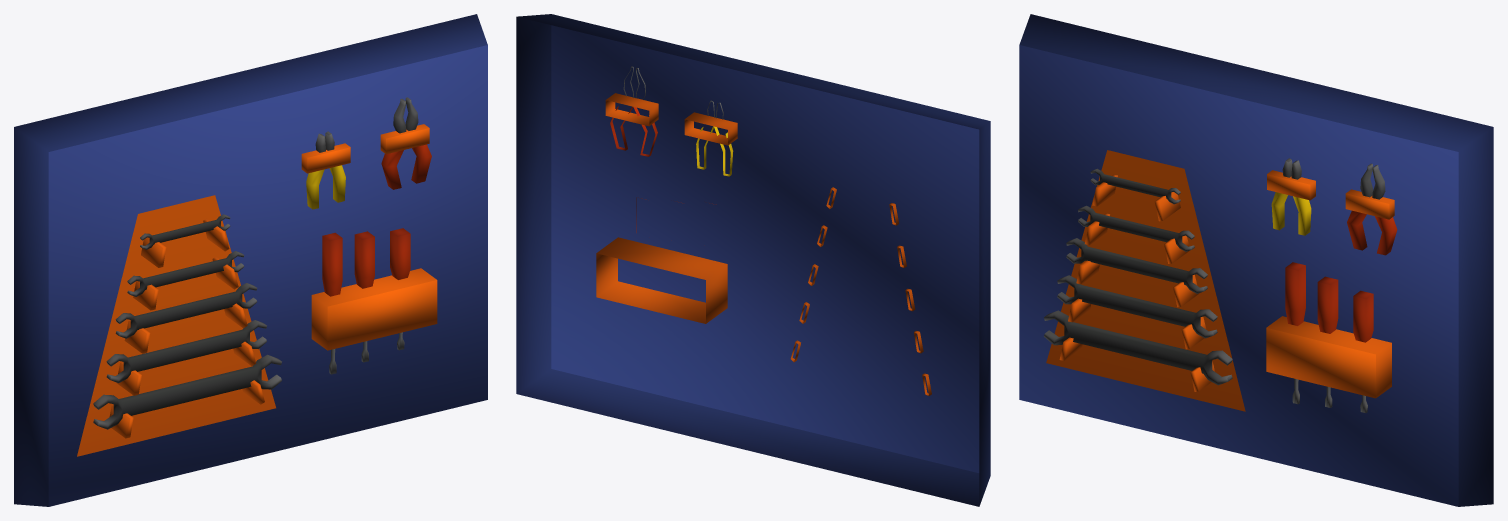
File: MuralFerramentas.fbx
3 views of the same model, side by side, from view 1: azimuth 30°, elevation 25°; view 2: azimuth 150°, elevation 25°; view 3: azimuth 330°, elevation 25° (orthographic).
Parts seen in each view (by area): view 1: MuralFerramentas; view 2: MuralFerramentas; view 3: MuralFerramentas.
Part boxes in pixels (bbox=[...]): MuralFerramentas: bbox=[14, 14, 487, 506]; MuralFerramentas: bbox=[516, 14, 990, 506]; MuralFerramentas: bbox=[1019, 14, 1493, 506].
Size of the model in its own units: 157 by 122 by 24.27.
